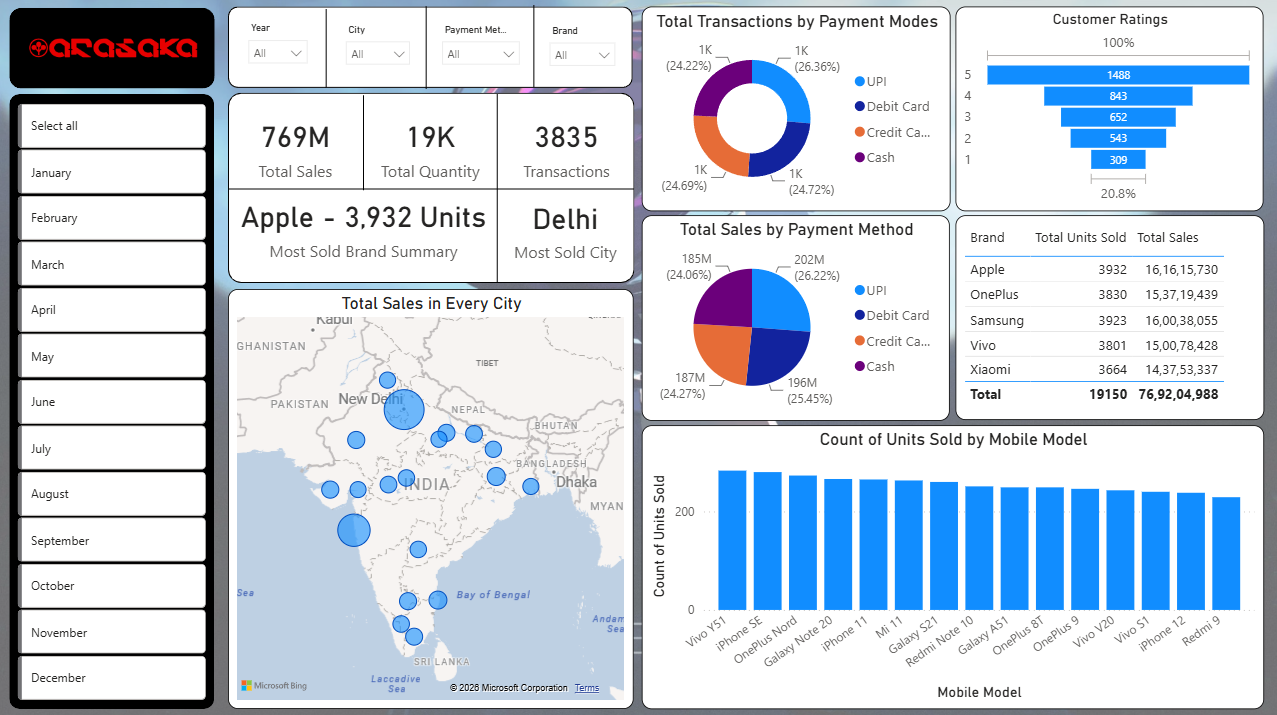

What the dashboard file says about the page in this screenshot:
{"tool":"powerbi","page":{"name":"Page 1","canvas":[1280,720],"ordinal":0},"visuals":[{"type":"group","id":"g1","title":"Group 1","box":[0,0,228.8,98.8],"z":0},{"type":"shape","box":[14.7,6.4,205.1,82.7],"z":0,"group":"g1"},{"type":"shape","box":[231.6,8.4,404.2,82],"z":0,"group":"g5"},{"type":"shape","box":[14.5,92.9,205.1,617.7],"z":0,"group":"g4"},{"type":"shape","box":[230.3,94.7,406.4,190.2],"z":0,"group":"g2"},{"type":"shape","box":[229.2,97.7,406.4,190.2],"z":0,"group":"g3"},{"type":"image","box":[0,0,228.8,98.8],"z":1000,"group":"g1"},{"type":"group","id":"g2","title":"Group 3","box":[229.2,92.9,406.6,194.2],"z":1000},{"type":"shape","box":[230.3,97.7,271.3,94.7],"z":1000,"group":"g3"},{"type":"shape","box":[365,9.3,270,81.9],"z":1500,"group":"g5"},{"type":"shape","box":[364.3,95.7,271.3,188.5],"z":2000,"group":"g3"},{"type":"advancedSlicerVisual","fields":{"Values":["Mobile_Sales_Data.Date.Variation.Date Hierarchy.Month"]},"box":[18.1,100.1,199.1,611.7],"z":2000,"group":"g4"},{"type":"map","title":"Total Sales in Every City","fields":{"Category":["Mobile_Sales_Data.City"],"Size":["Mobile_Sales_Data.Total Sales"]},"box":[230,290,405.6,420],"z":2000},{"type":"card","fields":{"Values":["Mobile_Sales_Data.Total_Quantity"]},"box":[365.4,92.9,135.1,109.7],"z":3000,"group":"g2"},{"type":"clusteredColumnChart","fields":{"Category":["Mobile_Sales_Data.Mobile Model"],"Y":["CountNonNull(Mobile_Sales_Data.Units Sold)"]},"box":[644.2,426.3,622.1,283.7],"z":3000},{"type":"card","fields":{"Values":["Mobile_Sales_Data.Most Sold Brand Summary"]},"box":[230.3,173.4,271.3,109.7],"z":4000,"group":"g2"},{"type":"pieChart","fields":{"Category":["Mobile_Sales_Data.Payment Method"],"Y":["Mobile_Sales_Data.Total Sales"]},"box":[644.2,215.8,307.9,205.3],"z":4000},{"type":"donutChart","title":"Total Transactions by Payment Modes","fields":{"Category":["Mobile_Sales_Data.Payment Method"],"Y":["Mobile_Sales_Data.Transactions"]},"box":[644,7,309,205],"z":5000},{"type":"card","fields":{"Values":["Mobile_Sales_Data.Total_Sales"]},"box":[501.6,92.9,135.1,109.7],"z":5000,"group":"g2"},{"type":"funnel","title":"Customer Ratings","fields":{"Category":["Mobile_Sales_Data.Customer Ratings"],"Y":["CountNonNull(Mobile_Sales_Data.Customer Ratings)"]},"box":[958,7,308,205],"z":6000},{"type":"card","fields":{"Values":["Mobile_Sales_Data.Total_Sales"]},"box":[230.3,92.9,135.1,109.7],"z":6000,"group":"g2"},{"type":"group","id":"g3","title":"Group 2","box":[229.2,95.7,406.4,192.2],"z":7000,"group":"g2"},{"type":"tableEx","title":"Customer Ratings","fields":{"Values":["Mobile_Sales_Data.Brand","Mobile_Sales_Data.Total Units Sold","Mobile_Sales_Data.Total Sales"]},"box":[957.9,216,308.8,205.1],"z":7000},{"type":"group","id":"g4","title":"Group 5","box":[14.5,92.9,205.1,618.9],"z":8000},{"type":"card","fields":{"Values":["Mobile_Sales_Data.Most Sold City"]},"box":[500.5,174.3,135.1,109.7],"z":8000,"group":"g2"},{"type":"group","id":"g5","title":"Group 4","box":[231.2,8.4,404.5,82.8],"z":9000},{"type":"slicer","fields":{"Values":["Mobile_Sales_Data.City"]},"box":[505.5,15.7,124.3,65.1],"z":10000},{"type":"slicer","fields":{"Values":["Mobile_Sales_Data.Brand"]},"box":[236.5,15.7,121.9,65.1],"z":11000},{"type":"slicer","fields":{"Values":["Mobile_Sales_Data.Payment Method"]},"box":[368,18.1,130.3,65.1],"z":12000},{"type":"shape","box":[231.2,9.3,270,81.9],"z":13000,"group":"g5"}]}

Visuals, with their boxes in screenshot pixels (x1, y1, x2, y2), scaled from the page's 1280x720 canvas onto the 1277x715 screenshot:
"Group 1" group: 0, 0, 228, 98
shape: 15, 6, 219, 88
shape: 231, 8, 634, 90
shape: 14, 92, 219, 706
shape: 230, 94, 635, 283
shape: 229, 97, 634, 286
image: 0, 0, 228, 98
"Group 3" group: 229, 92, 634, 285
shape: 230, 97, 500, 191
shape: 364, 9, 634, 91
shape: 363, 95, 634, 282
advancedSlicerVisual - Mobile_Sales_Data.Date.Variation.Date Hierarchy.Month: 18, 99, 217, 707
"Total Sales in Every City" map: 229, 288, 634, 705
card - Mobile_Sales_Data.Total_Quantity: 365, 92, 499, 201
clusteredColumnChart - Mobile_Sales_Data.Mobile Model x CountNonNull(Mobile_Sales_Data.Units Sold): 643, 423, 1263, 705
card - Mobile_Sales_Data.Most Sold Brand Summary: 230, 172, 500, 281
pieChart - Mobile_Sales_Data.Payment Method x Mobile_Sales_Data.Total Sales: 643, 214, 950, 418
"Total Transactions by Payment Modes" donutChart: 642, 7, 951, 211
card - Mobile_Sales_Data.Total_Sales: 500, 92, 635, 201
"Customer Ratings" funnel: 956, 7, 1263, 211
card - Mobile_Sales_Data.Total_Sales: 230, 92, 365, 201
"Group 2" group: 229, 95, 634, 286
"Customer Ratings" tableEx: 956, 214, 1264, 418
"Group 5" group: 14, 92, 219, 707
card - Mobile_Sales_Data.Most Sold City: 499, 173, 634, 282
"Group 4" group: 231, 8, 634, 91
slicer - Mobile_Sales_Data.City: 504, 16, 628, 80
slicer - Mobile_Sales_Data.Brand: 236, 16, 358, 80
slicer - Mobile_Sales_Data.Payment Method: 367, 18, 497, 83
shape: 231, 9, 500, 91
